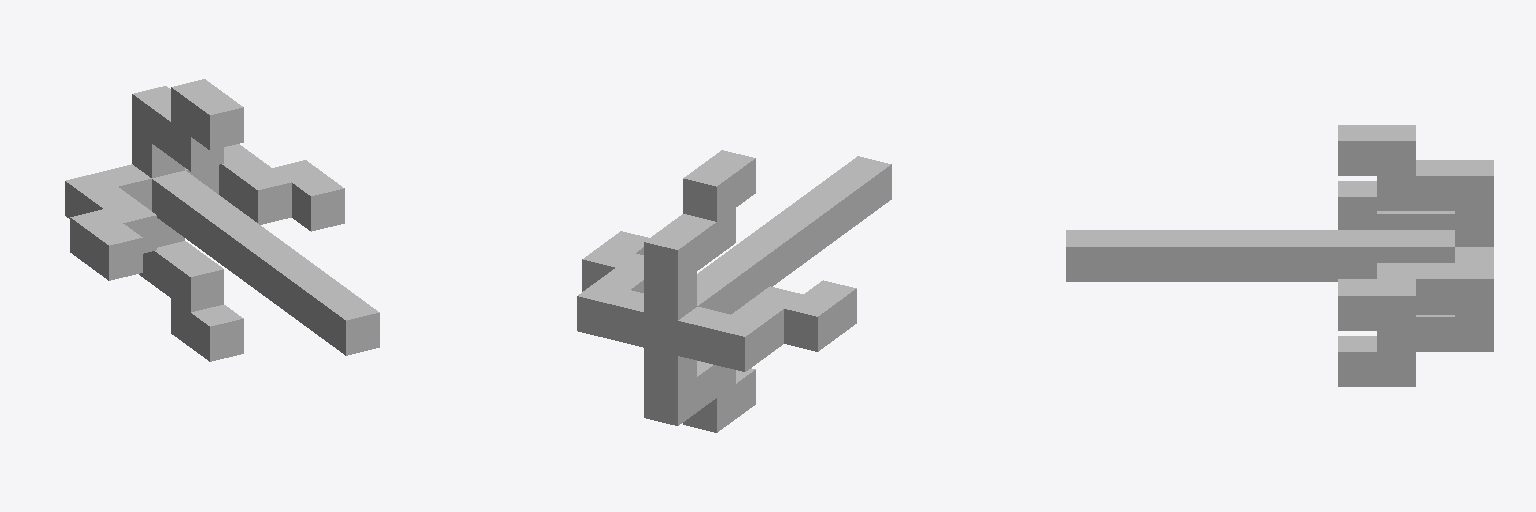
Rendered from Grapple Hook.obj.
The picture shows the model from 3 angles: view 1: azimuth 30°, elevation 25°; view 2: azimuth 150°, elevation 25°; view 3: azimuth 270°, elevation 25°; orthographic projection.
Visible parts, largest first — view 1: object 1; view 2: object 1; view 3: object 1.
Boxes of the visible parts, x1=… form: object 1: x1=65, y1=79, x2=379, y2=361; object 1: x1=577, y1=150, x2=891, y2=432; object 1: x1=1066, y1=125, x2=1493, y2=386.
Bounding box in the file's own units: 0.7 × 0.7 × 1.1.